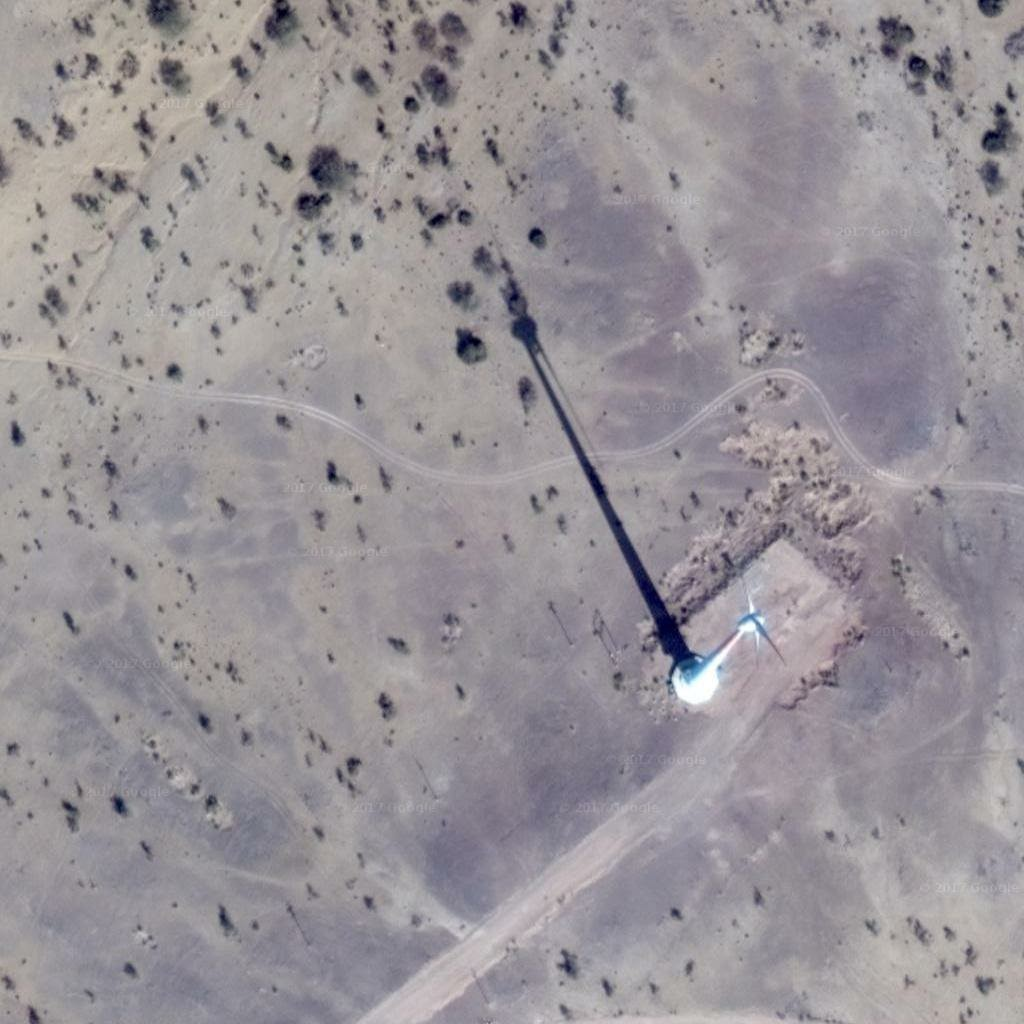Windmill: (487, 259, 698, 662)
